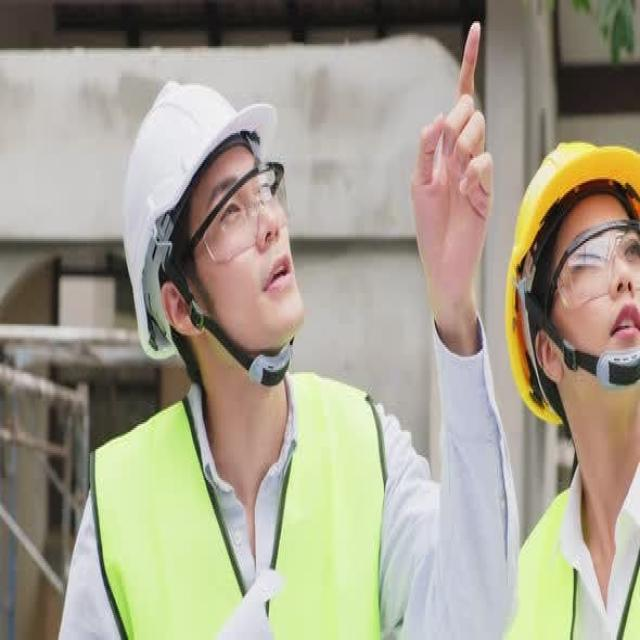goggles: (174, 158, 291, 275), (537, 213, 640, 329)
helmet: (120, 74, 280, 365), (503, 134, 640, 436)
vest: (89, 366, 393, 640), (515, 477, 640, 640)
